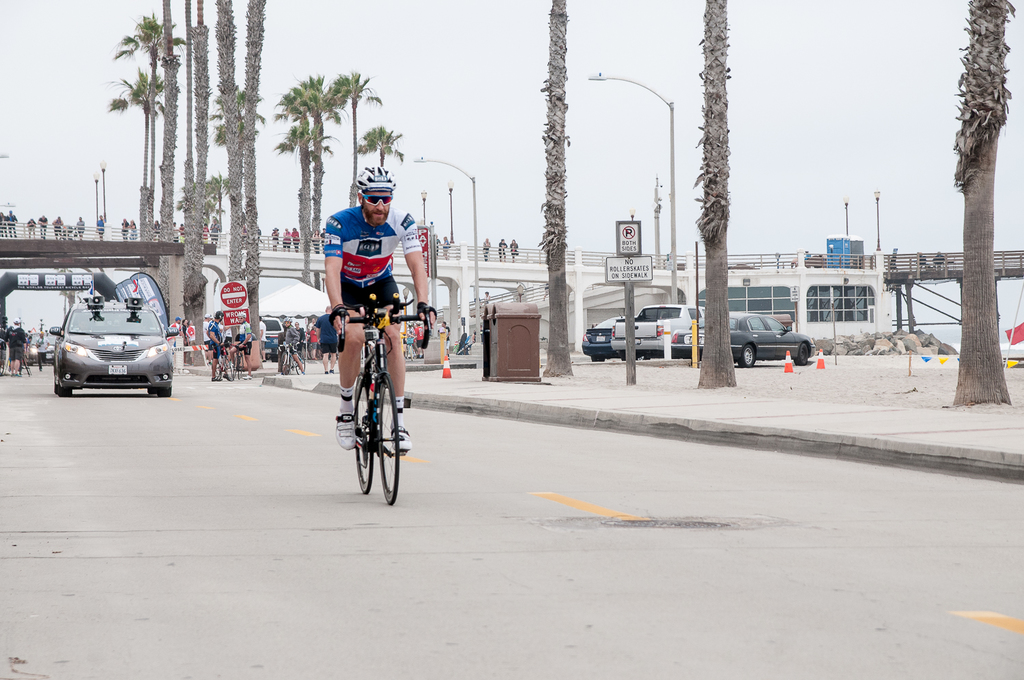Bike: (320, 318, 445, 516)
